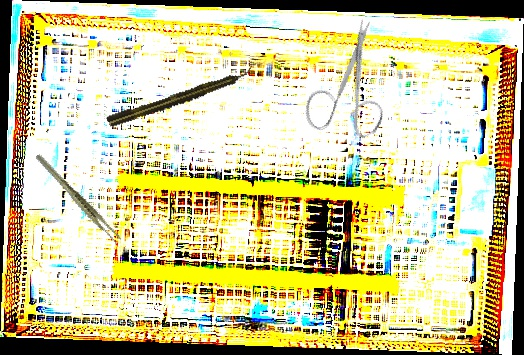Handpiece: (105, 65, 255, 130)
Iris Scissors: (278, 15, 415, 157)
Tissue Forceps: (34, 141, 123, 256)
